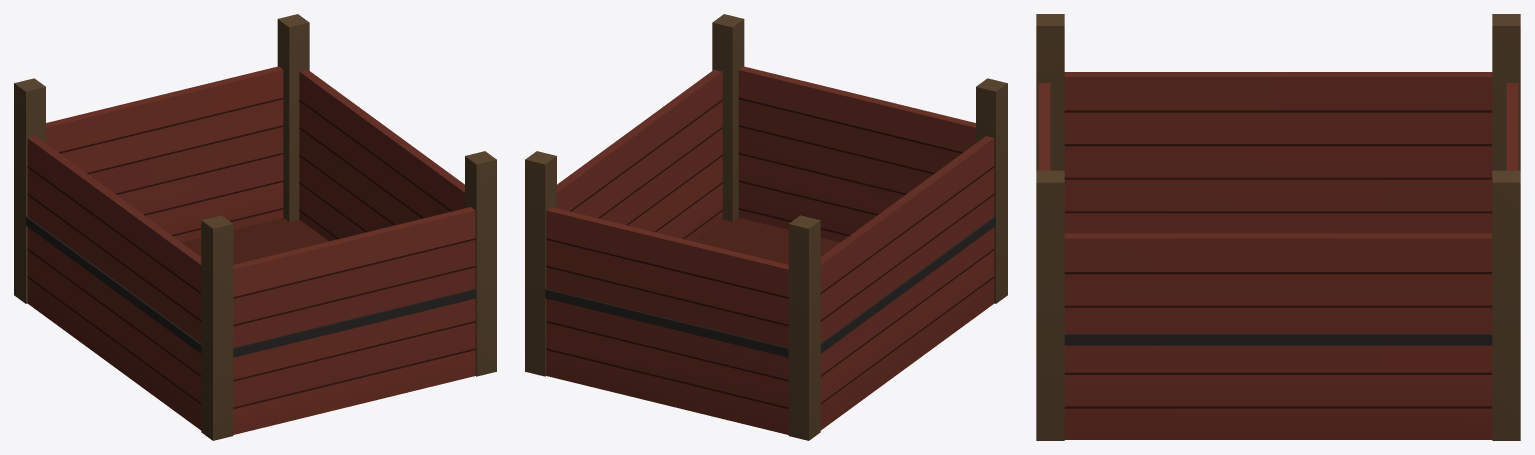
The model's file is crate.bin.red.glb.
3 views of the same model, side by side, from view 1: azimuth 30°, elevation 25°; view 2: azimuth 150°, elevation 25°; view 3: azimuth 270°, elevation 25° (orthographic). The views are drawn at different scales.
Parts seen in each view (by area): view 1: crate_bin_red; view 2: crate_bin_red; view 3: crate_bin_red.
Boxes of the visible parts, box(x1,y1,x2,y2) form: crate_bin_red: box(14, 14, 496, 440); crate_bin_red: box(525, 14, 1007, 440); crate_bin_red: box(1036, 14, 1520, 440).
Size of what is drawn, in the model's own units: 1.68 by 1.2 by 2.04.
